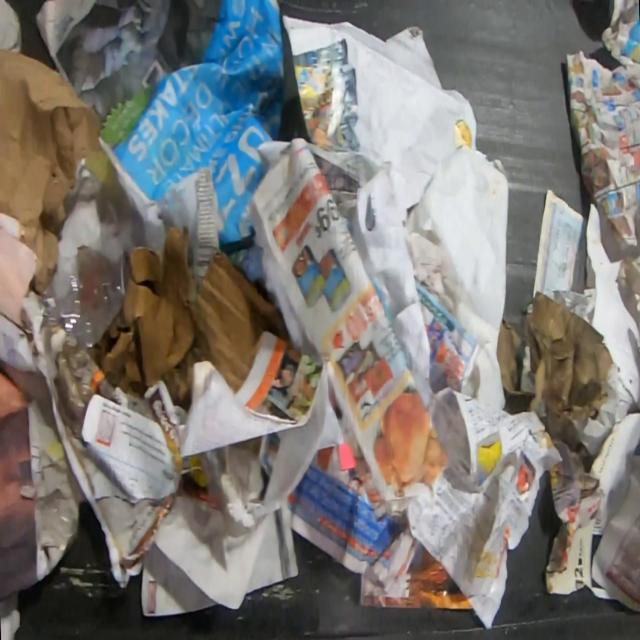cardboard: (88, 225, 292, 413), (498, 289, 613, 421)
rigid_plastic: (40, 236, 127, 351)
